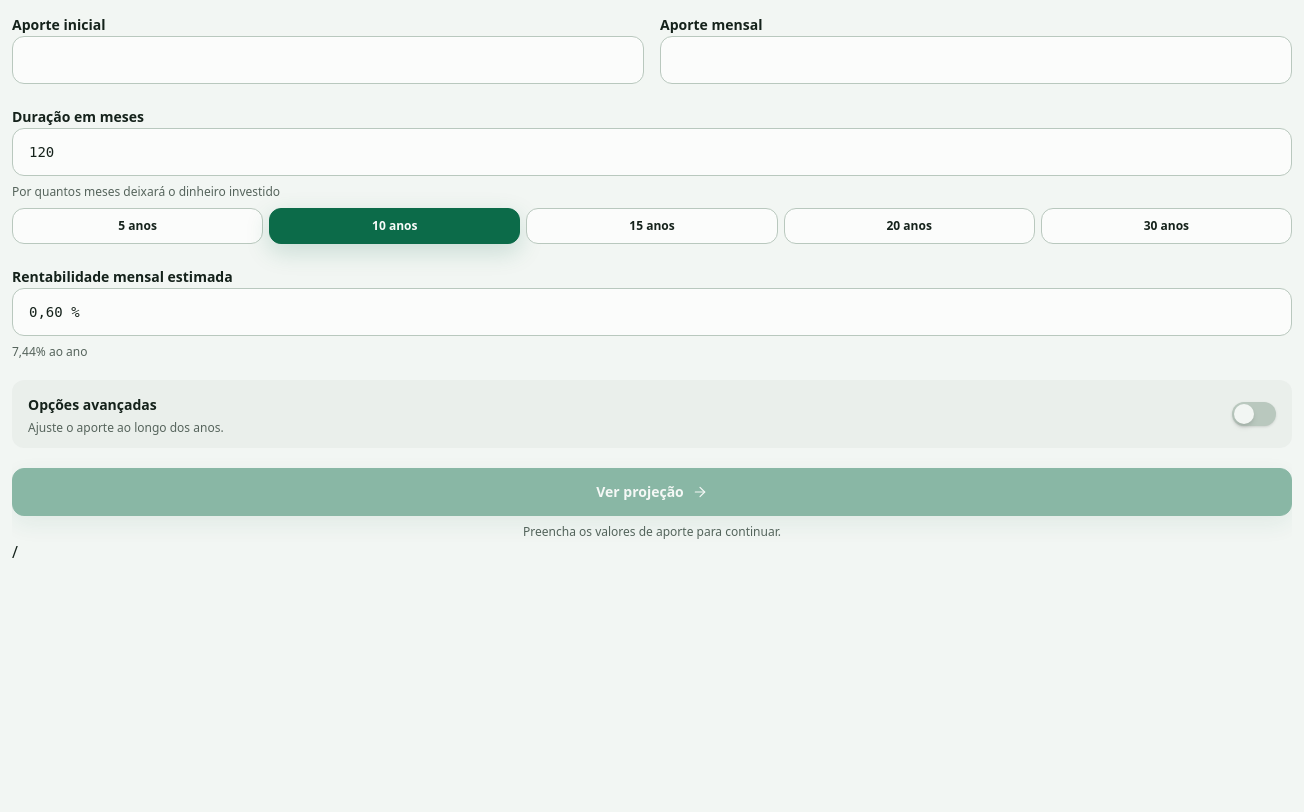
EstimateForm › uses real buttons for year presets and marks the selected duration
Expected: the element named "Atalhos de duração" is shown, [12, 208, 1292, 244]
Step 1. Click the button "5 anos" → (138, 226), box [12, 208, 263, 244]
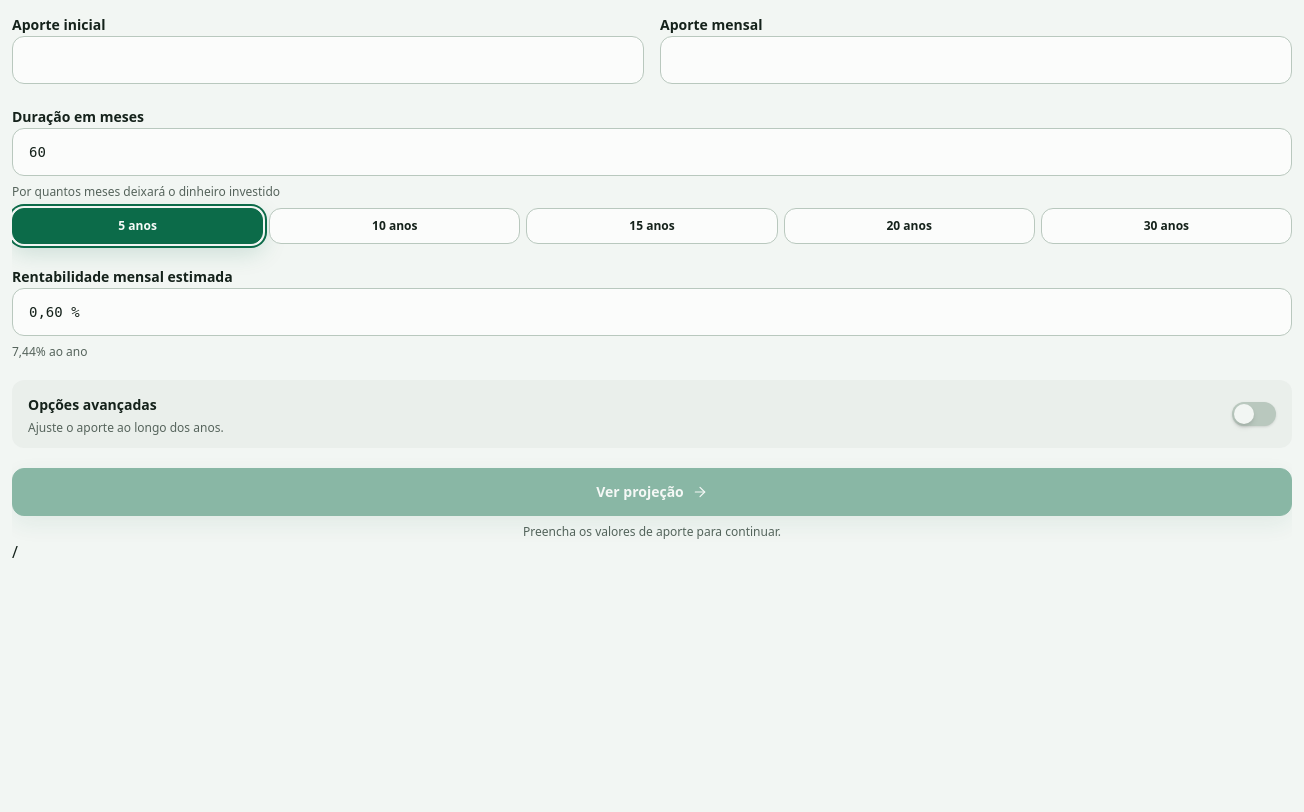
Expected: the field labelled "Duração em meses" holds "60", [12, 128, 1292, 176]
